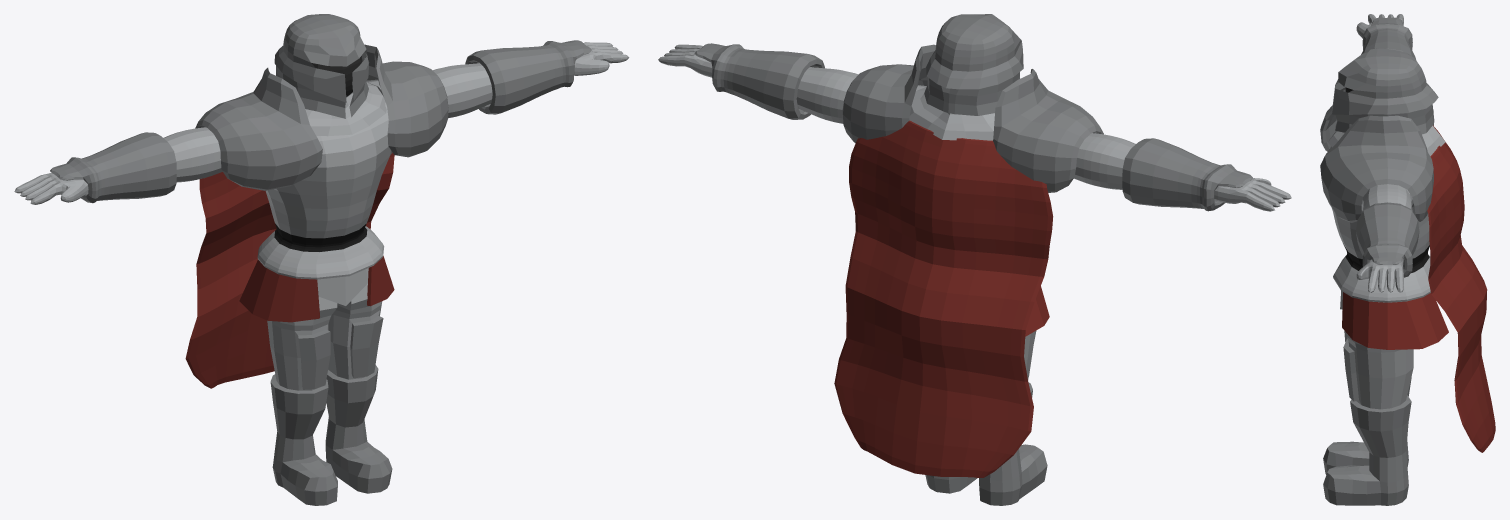
File: kronos-knight.fbx
The picture shows the model from 3 angles, left to right: view 1: azimuth 30°, elevation 25°; view 2: azimuth 150°, elevation 25°; view 3: azimuth 270°, elevation 25°; orthographic projection. The views are drawn at different scales.
Visible parts, largest first — view 1: Cube.320; view 2: Cube.320; view 3: Cube.320.
Part boxes in pixels (x1,y1,x2,y2): Cube.320: [14, 14, 629, 505]; Cube.320: [658, 14, 1291, 505]; Cube.320: [1320, 14, 1495, 505].
Size of the model in its own units: 427 by 310 by 114.
